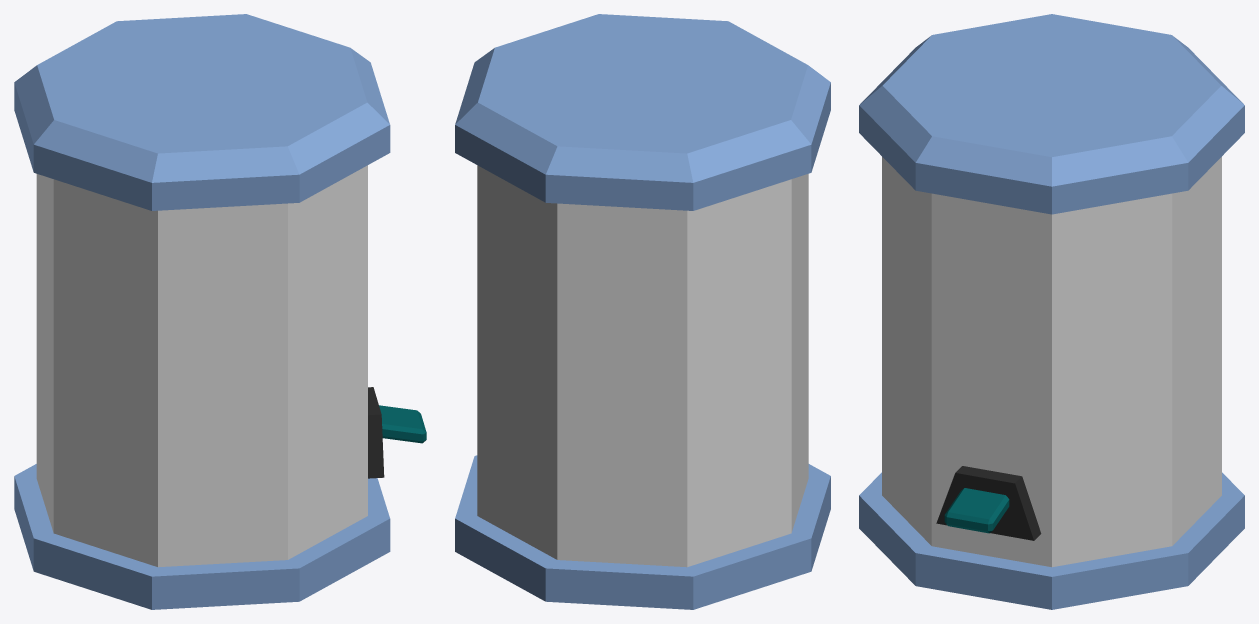
File: Dustbin.fbx
The picture shows the model from 3 angles, left to right: view 1: azimuth 30°, elevation 25°; view 2: azimuth 150°, elevation 25°; view 3: azimuth 270°, elevation 25°; orthographic projection.
Visible parts, largest first — view 1: Dustbin2; view 2: Dustbin2; view 3: Dustbin2.
Part boxes in pixels (x1,y1,x2,y2): Dustbin2: (14, 14, 426, 609); Dustbin2: (455, 14, 830, 609); Dustbin2: (859, 14, 1244, 609).
Size of the model in its own units: 1.99 by 2.39 by 1.89.
